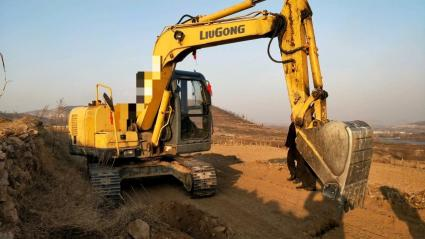excavator: (60, 1, 385, 224)
